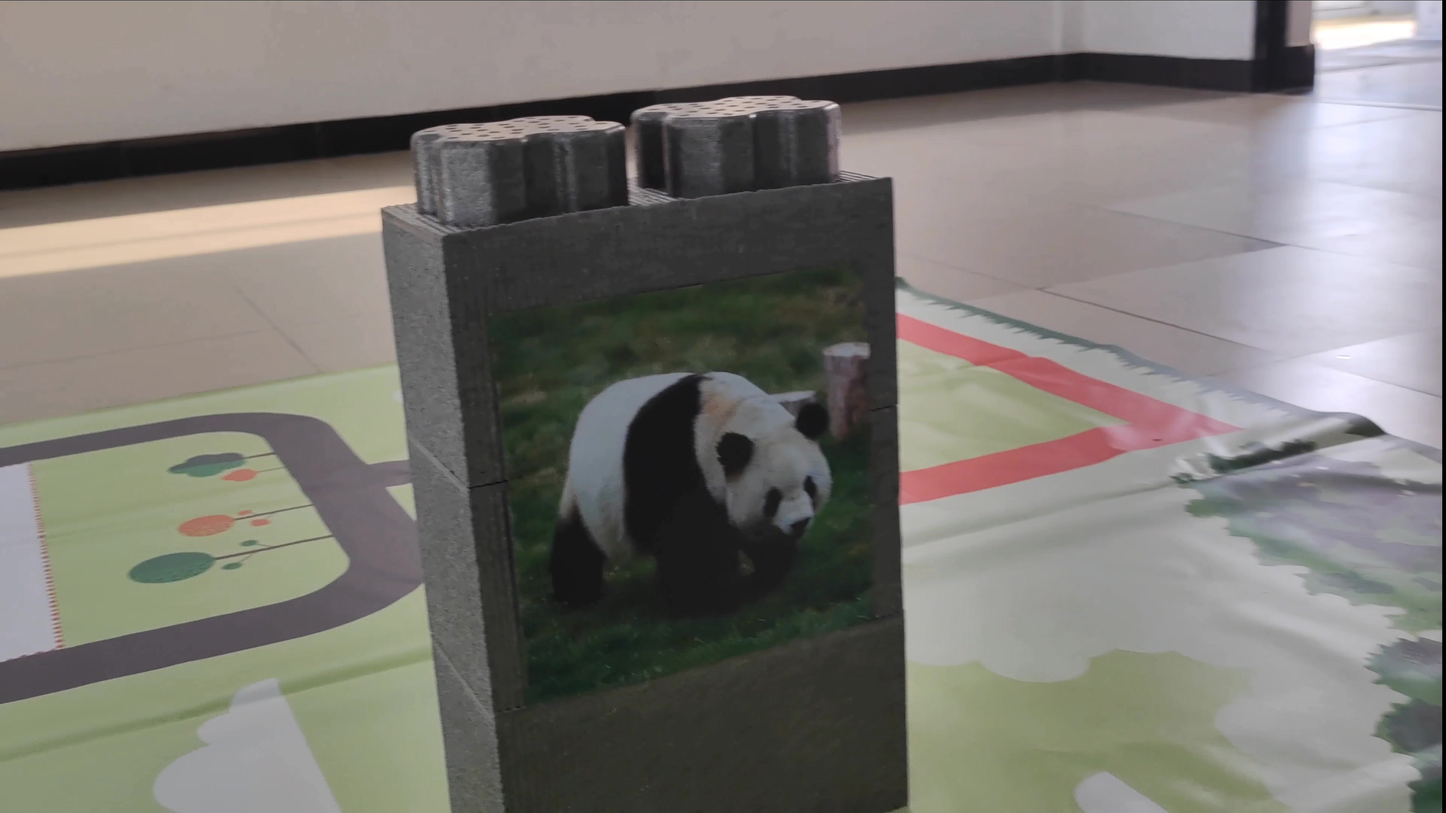panda: (520, 362, 853, 639)
